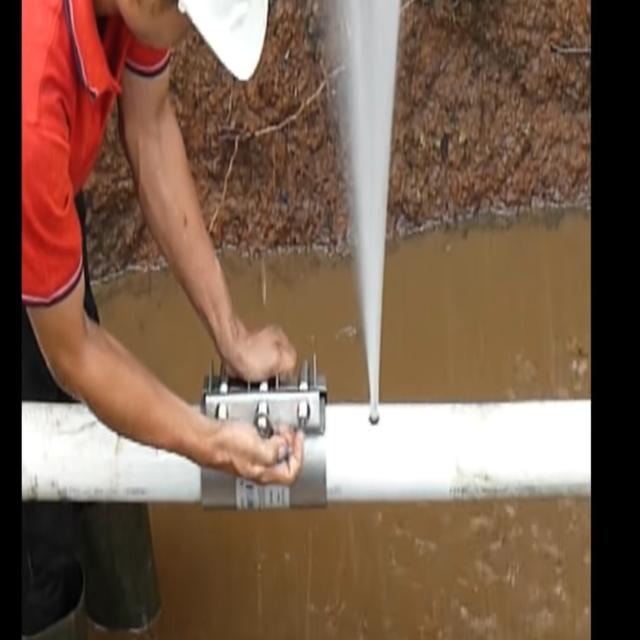leak: (342, 0, 400, 424)
